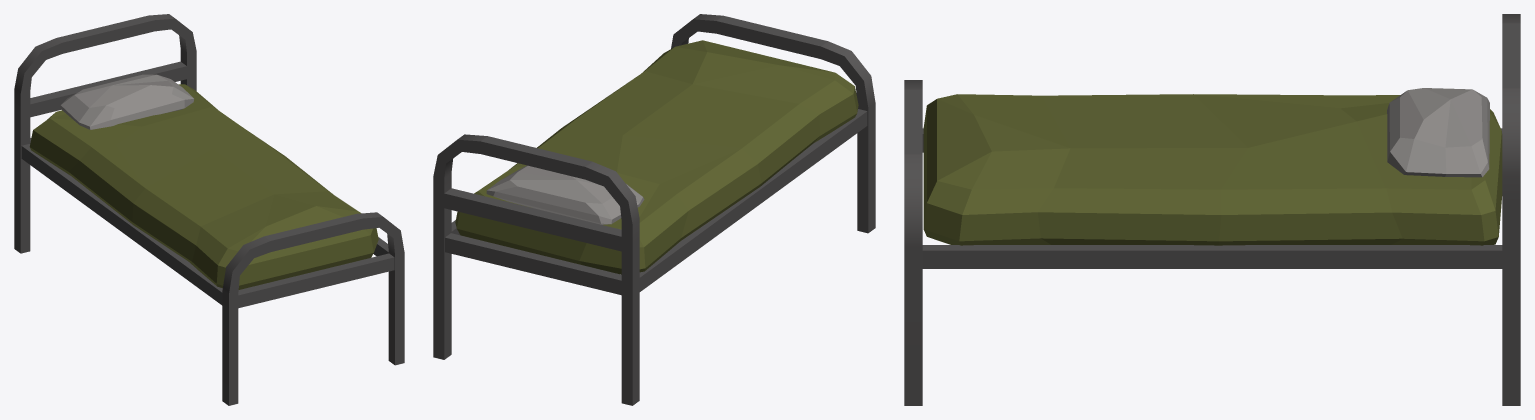
File: SM_Prop_Bed_Military_01.fbx
3 views of the same model, side by side, from view 1: azimuth 30°, elevation 25°; view 2: azimuth 150°, elevation 25°; view 3: azimuth 270°, elevation 25° (orthographic). The views are drawn at different scales.
Visible parts, largest first — view 1: SM_Prop_Bed_Military_01; view 2: SM_Prop_Bed_Military_01; view 3: SM_Prop_Bed_Military_01.
Boxes of the visible parts, left/top/right/bottom form: SM_Prop_Bed_Military_01: left=14, top=14, right=404, bottom=405; SM_Prop_Bed_Military_01: left=433, top=14, right=875, bottom=405; SM_Prop_Bed_Military_01: left=904, top=14, right=1520, bottom=405.
Bounding box in the file's own units: 106 × 116 × 224.
